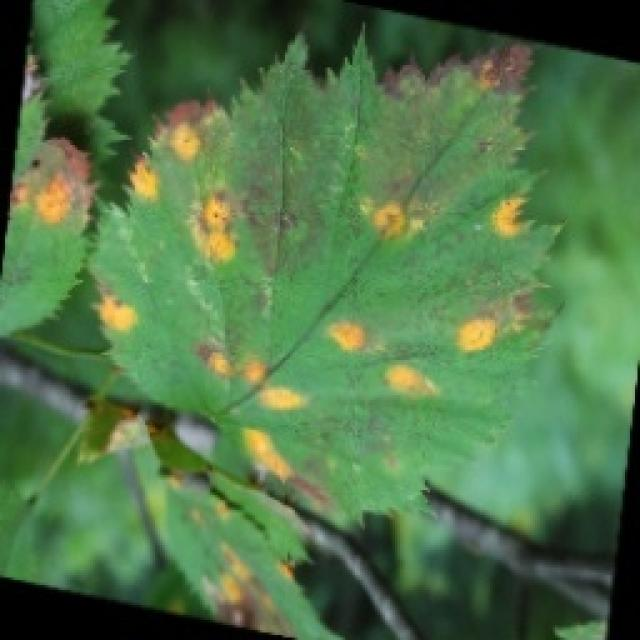Gymnosporangium_Rusts: (0, 20, 570, 625)
